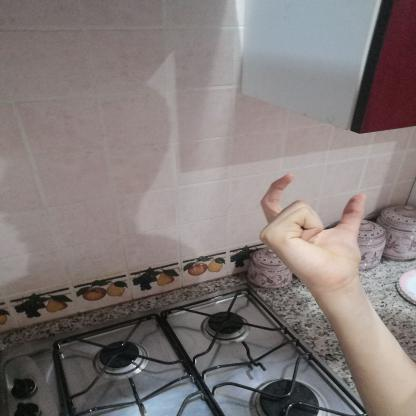NOON: (243, 166, 377, 297)
